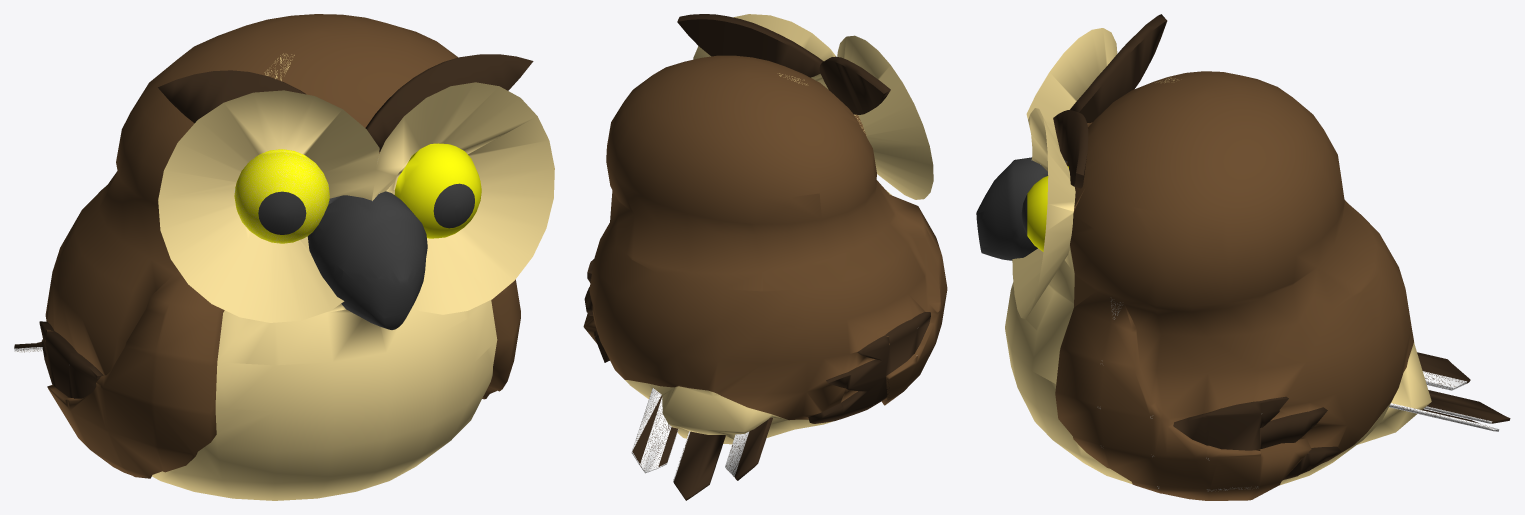
Rendered from owl.dae.
3 renders of one model, left to right at view 1: azimuth 30°, elevation 25°; view 2: azimuth 150°, elevation 25°; view 3: azimuth 270°, elevation 25°, orthographic. The views are drawn at different scales.
Visible parts, largest first — view 1: SketchUp (×11); view 2: SketchUp (×10); view 3: SketchUp (×12).
Boxes of the visible parts, x1,y1,x2,y2 form: SketchUp (×11): (39,14,554,500); SketchUp (×10): (583,14,947,500); SketchUp (×12): (976,14,1510,500).
Size of the model in its own units: 58.46 by 73.19 by 58.11.
